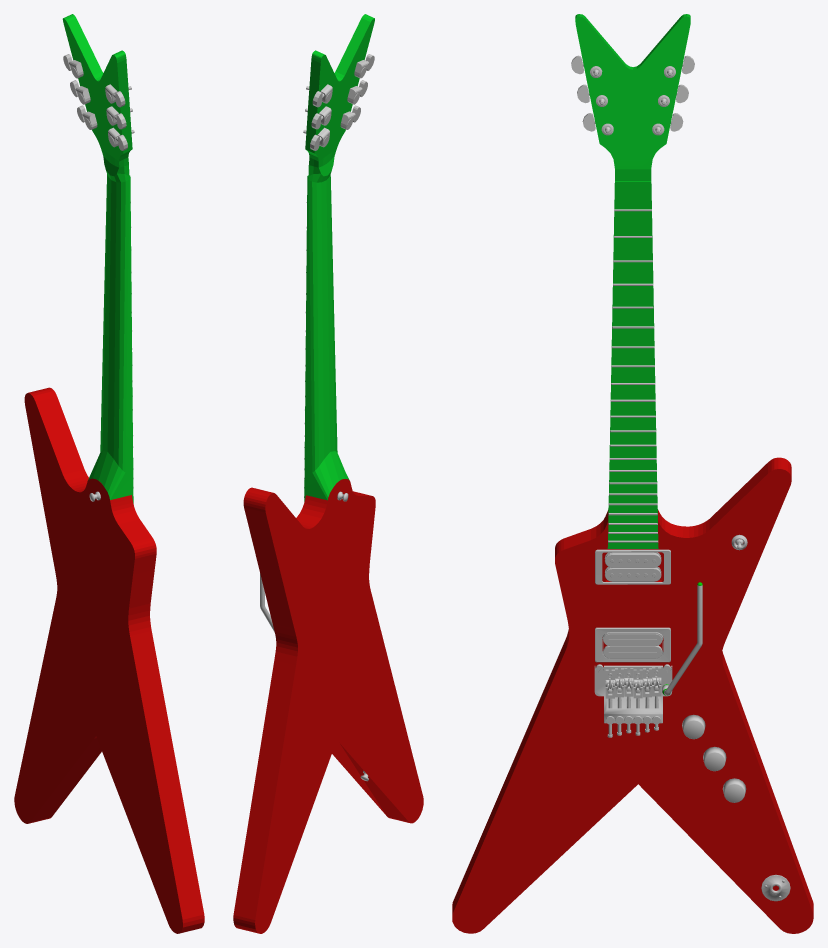
Rendered from colourtest.obj.
3 renders of one model, left to right at view 1: azimuth 30°, elevation 25°; view 2: azimuth 150°, elevation 25°; view 3: azimuth 270°, elevation 25°, orthographic. The views are drawn at different scales.
Parts seen in each view (by area): view 1: body, neck; view 2: body, neck; view 3: body, neck, floyd_rose, Cylinder.001, lawrence_pickup, seymour_pickup, knob_1.002, pickup_ring, Cube.
Part boxes in pixels (x1=…): body: x1=14, y1=387, x2=204, y2=933; neck: x1=62, y1=14, x2=133, y2=503; body: x1=233, y1=479, x2=423, y2=933; neck: x1=304, y1=14, x2=374, y2=501; body: x1=452, y1=457, x2=813, y2=933; neck: x1=575, y1=14, x2=690, y2=548; floyd_rose: x1=594, y1=582, x2=702, y2=737; Cylinder.001: x1=608, y1=209, x2=658, y2=542; lawrence_pickup: x1=602, y1=632, x2=663, y2=659; seymour_pickup: x1=604, y1=552, x2=661, y2=581; knob_1.002: x1=682, y1=714, x2=746, y2=802; pickup_ring: x1=595, y1=627, x2=670, y2=662; Cube: x1=595, y1=549, x2=670, y2=584.
Size of the model in its own units: 0.2894 by 4.1 by 1.48.
